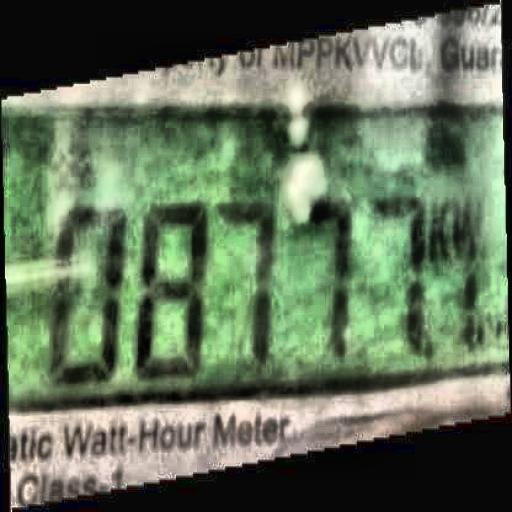DISPLAY_REGION: (1, 110, 512, 382)
SERIAL_REGION: (40, 194, 443, 373)
